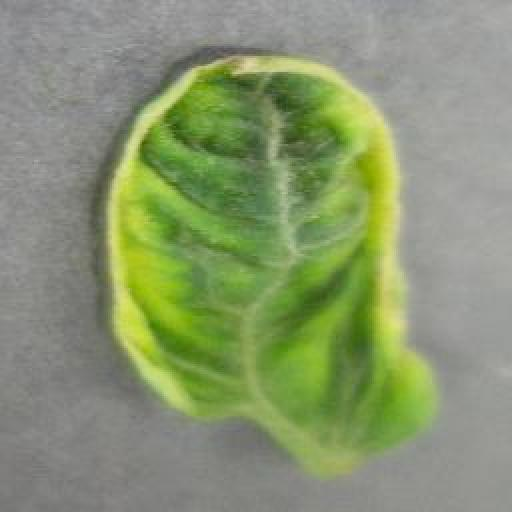disease_tomato: (100, 46, 440, 472)
